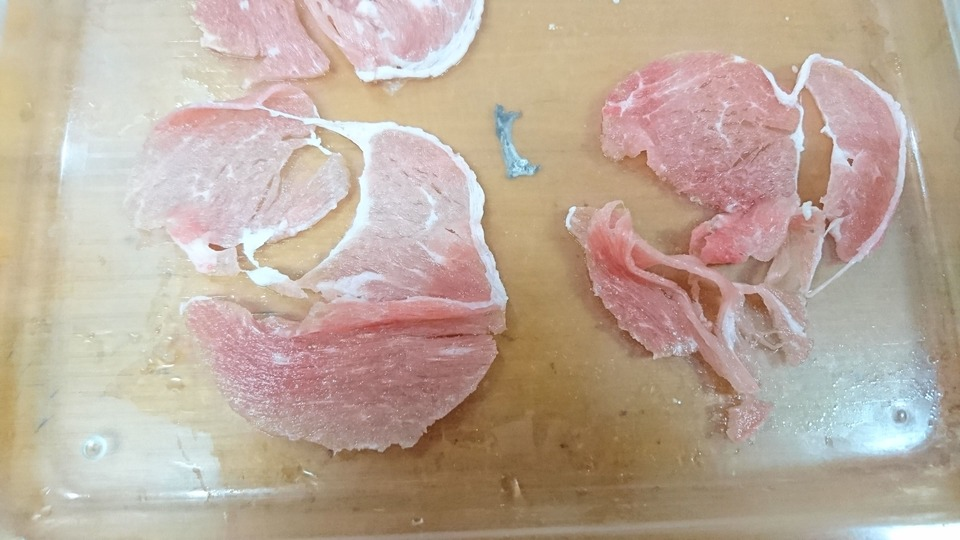restructured meat: (147, 107, 501, 447), (565, 50, 891, 395), (193, 2, 473, 79)
